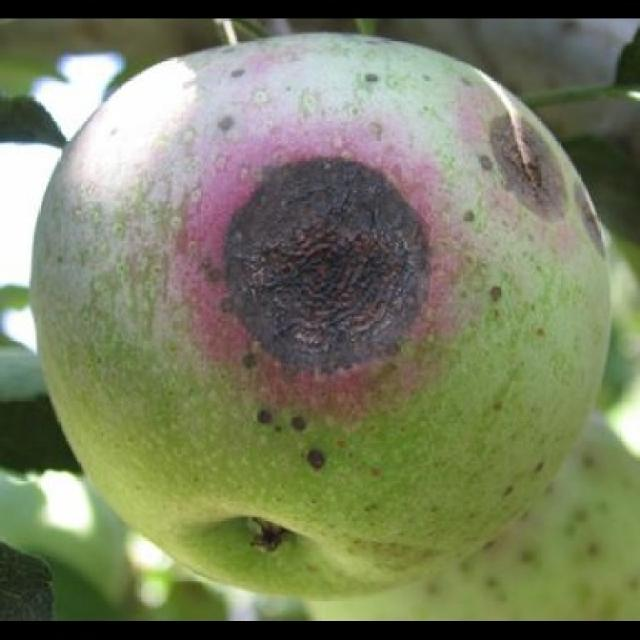Rotten Apple: (27, 28, 616, 600)
